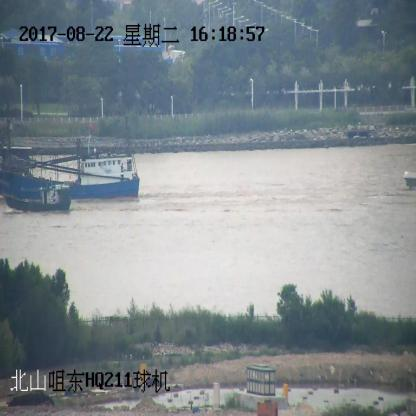Fishing Boat: (0, 114, 141, 201), (5, 184, 74, 214)
